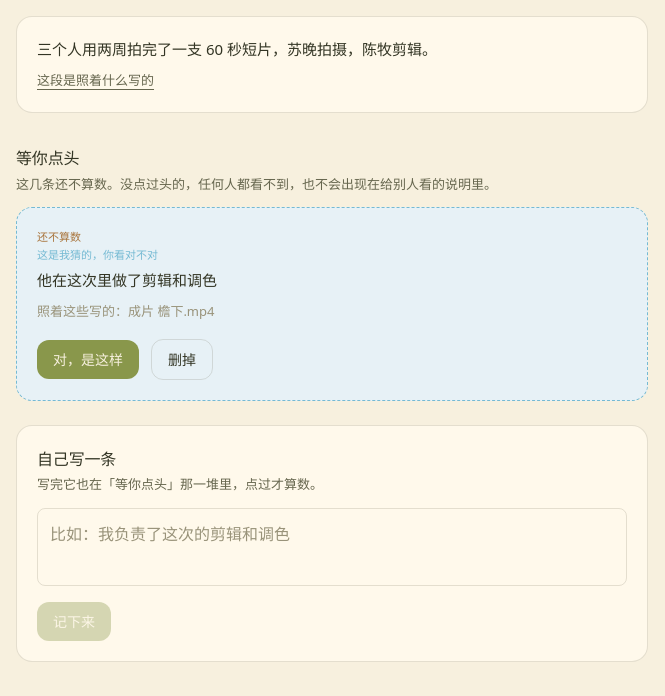
Test case: 等你点头 › 点过头之后它挪到「已经在用的」那一堆
(page scrolled)
Step 1. Click the button "对，是这样" → click(88, 359), box [37,340,139,379]
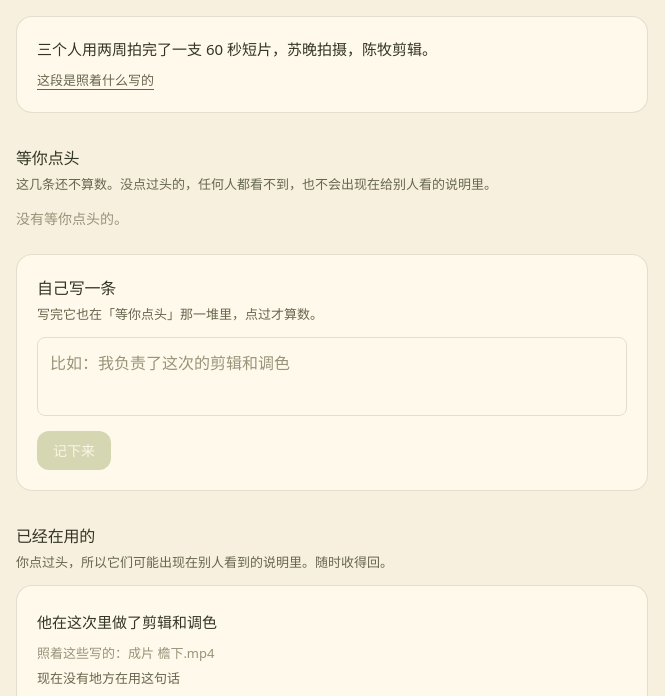
Now the text "没有等你点头的。" is shown, box [16,209,128,228]
